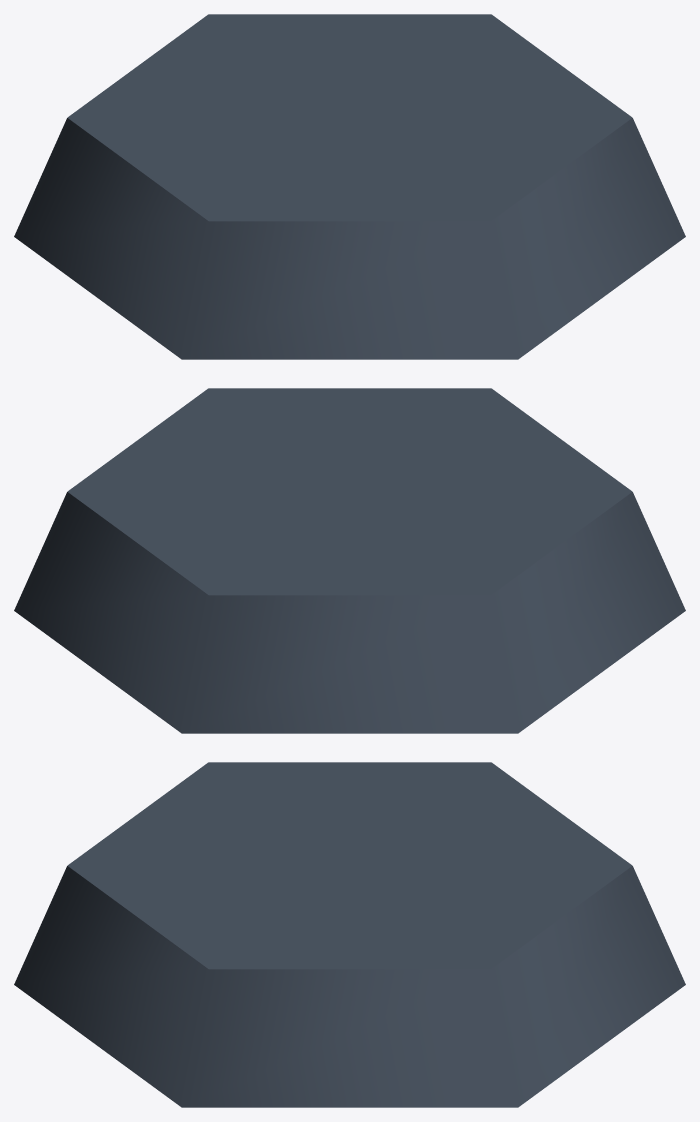
The model's file is AnteneHolder_1_D.fbx.
3 renders of one model, top to bottom at view 1: azimuth 30°, elevation 25°; view 2: azimuth 150°, elevation 25°; view 3: azimuth 270°, elevation 25°, orthographic.
Visible parts, largest first — view 1: AnteneHolder_1_D; view 2: AnteneHolder_1_D; view 3: AnteneHolder_1_D.
Part boxes in pixels (x1,y1,x2,y2): AnteneHolder_1_D: (14,14,685,359); AnteneHolder_1_D: (14,388,685,733); AnteneHolder_1_D: (14,762,685,1107).
Size of the model in its own units: 29.47 by 6.66 by 34.03.
